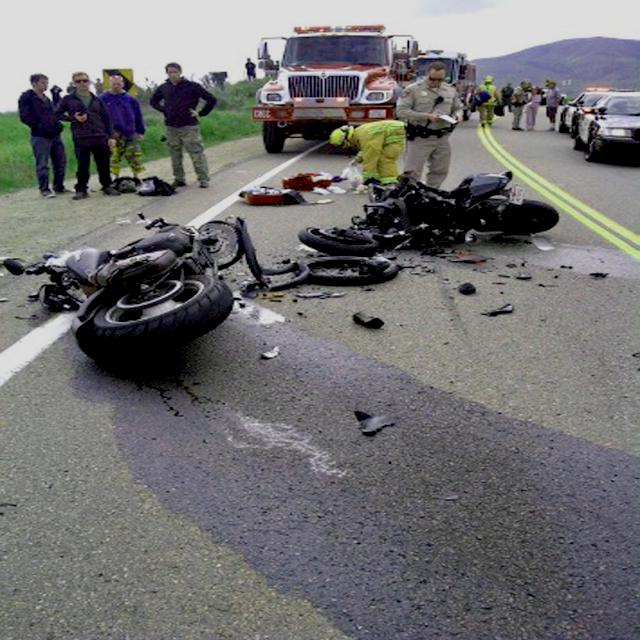accident: (1, 172, 562, 444)
non-accident: (560, 80, 640, 164)
